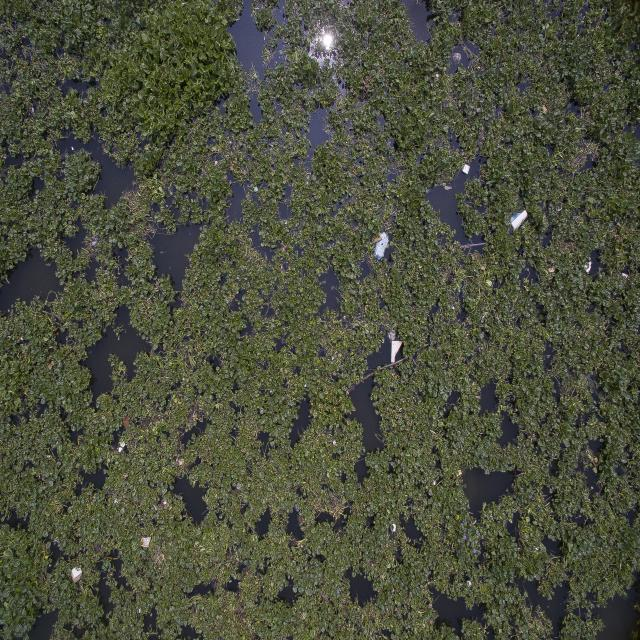debris: (509, 210, 528, 230), (389, 338, 404, 363), (69, 566, 86, 586), (139, 534, 152, 551), (117, 438, 127, 457), (451, 51, 463, 64), (389, 522, 400, 533), (462, 162, 472, 174), (585, 259, 592, 274), (454, 467, 463, 478), (621, 271, 631, 280), (443, 183, 453, 191), (69, 143, 76, 153), (466, 578, 473, 588), (332, 439, 339, 449), (336, 584, 341, 597), (480, 314, 485, 324), (549, 266, 556, 273), (427, 603, 434, 609), (432, 478, 436, 488), (138, 607, 142, 615), (254, 185, 258, 192), (284, 219, 288, 226), (304, 382, 308, 388), (331, 356, 335, 361)
plastic: (375, 230, 390, 262), (90, 234, 101, 249), (293, 501, 301, 514), (29, 104, 36, 116), (152, 503, 159, 512), (320, 243, 326, 250)
